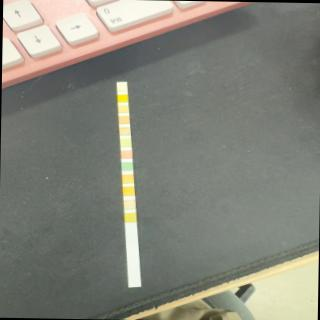mark: (124, 212, 136, 222), (122, 187, 134, 196), (121, 174, 133, 183), (121, 162, 133, 171), (117, 104, 129, 113), (118, 115, 129, 124), (123, 200, 135, 208), (120, 150, 132, 158), (120, 138, 132, 146), (116, 94, 128, 102), (116, 84, 128, 92), (120, 127, 130, 135)
